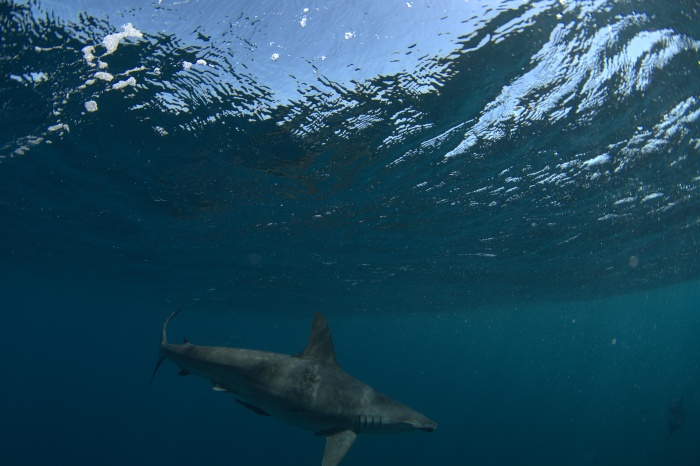Hammer: (144, 289, 489, 466)
